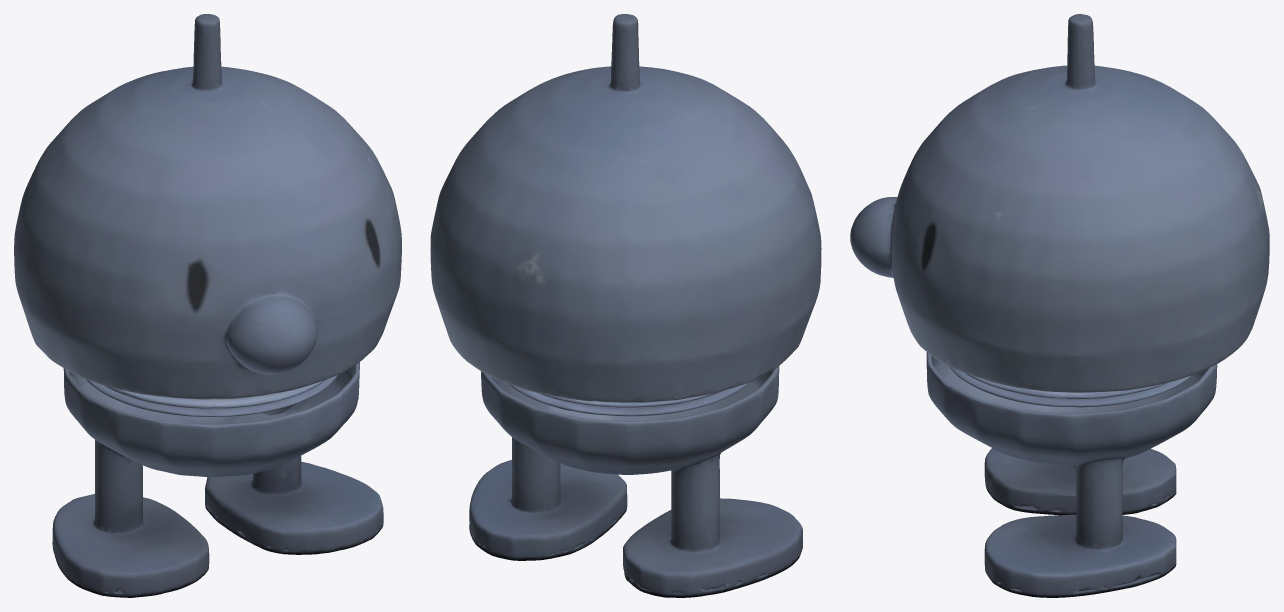
File: slinky.glb
3 views of the same model, side by side, from view 1: azimuth 30°, elevation 25°; view 2: azimuth 150°, elevation 25°; view 3: azimuth 270°, elevation 25° (orthographic). The views are drawn at different scales.
Visible parts, largest first — view 1: world; view 2: world; view 3: world.
Part boxes in pixels (left/top/right/bottom): world: left=14, top=14, right=401, bottom=597; world: left=430, top=14, right=821, bottom=597; world: left=850, top=14, right=1269, bottom=597.
Size of the model in its own units: 0.6808 by 1 by 0.7451.
Materials: 1 (1 with a texture image).
